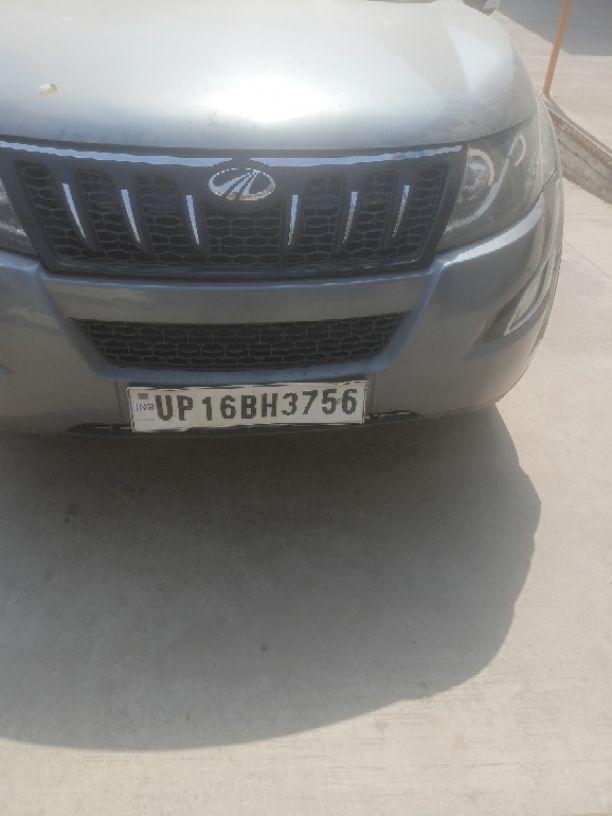license_plate: (124, 378, 369, 433)
